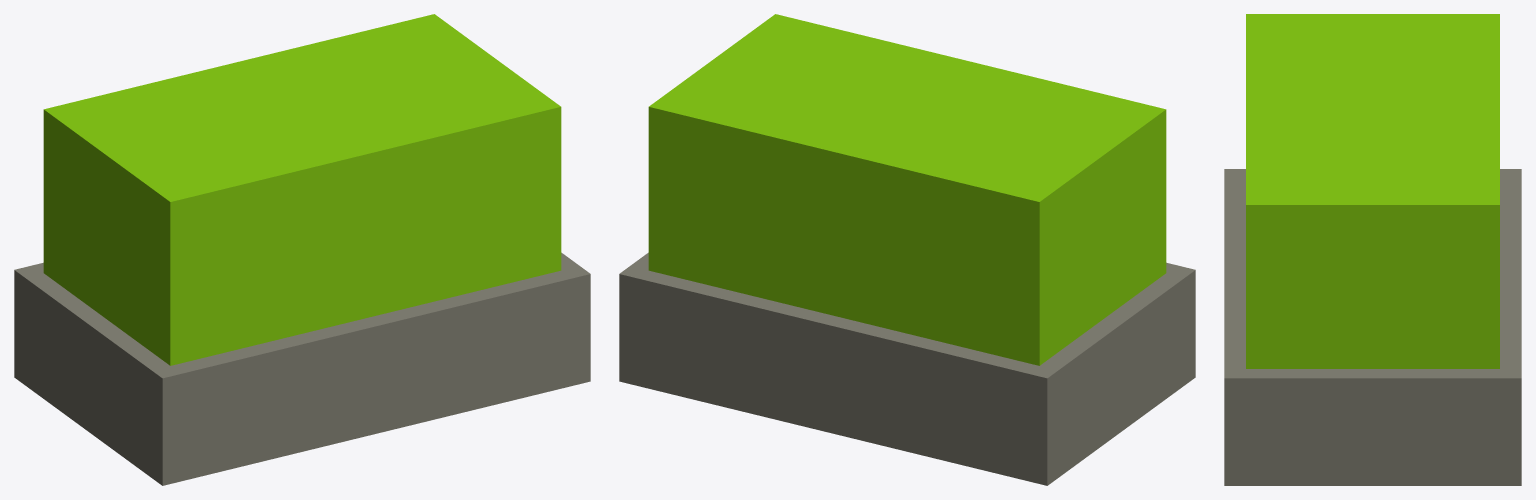
The model's file is adorn plant6.FBX.
3 views of the same model, side by side, from view 1: azimuth 30°, elevation 25°; view 2: azimuth 150°, elevation 25°; view 3: azimuth 270°, elevation 25° (orthographic).
Visible parts, largest first — view 1: adorn plant6; view 2: adorn plant6; view 3: adorn plant6.
Part boxes in pixels (x1,y1,x2,y2): adorn plant6: (14, 14, 590, 485); adorn plant6: (619, 14, 1195, 485); adorn plant6: (1224, 14, 1521, 485).
Size of the model in its own units: 2.5 by 1.51 by 1.5.
